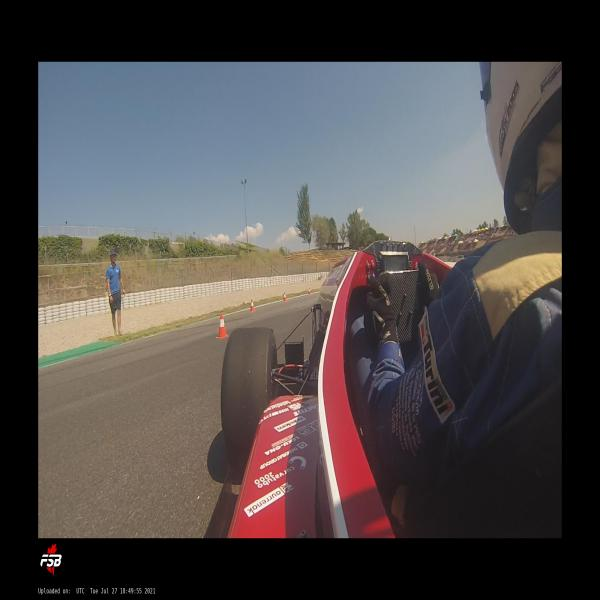orange_cone: (216, 312, 228, 339), (250, 299, 255, 312), (308, 288, 311, 295), (284, 292, 286, 301)
